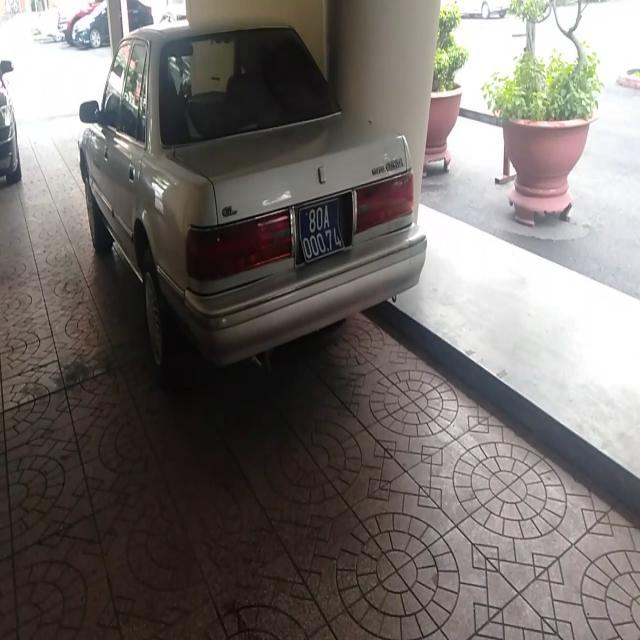bien_xanh: (296, 194, 351, 262)
